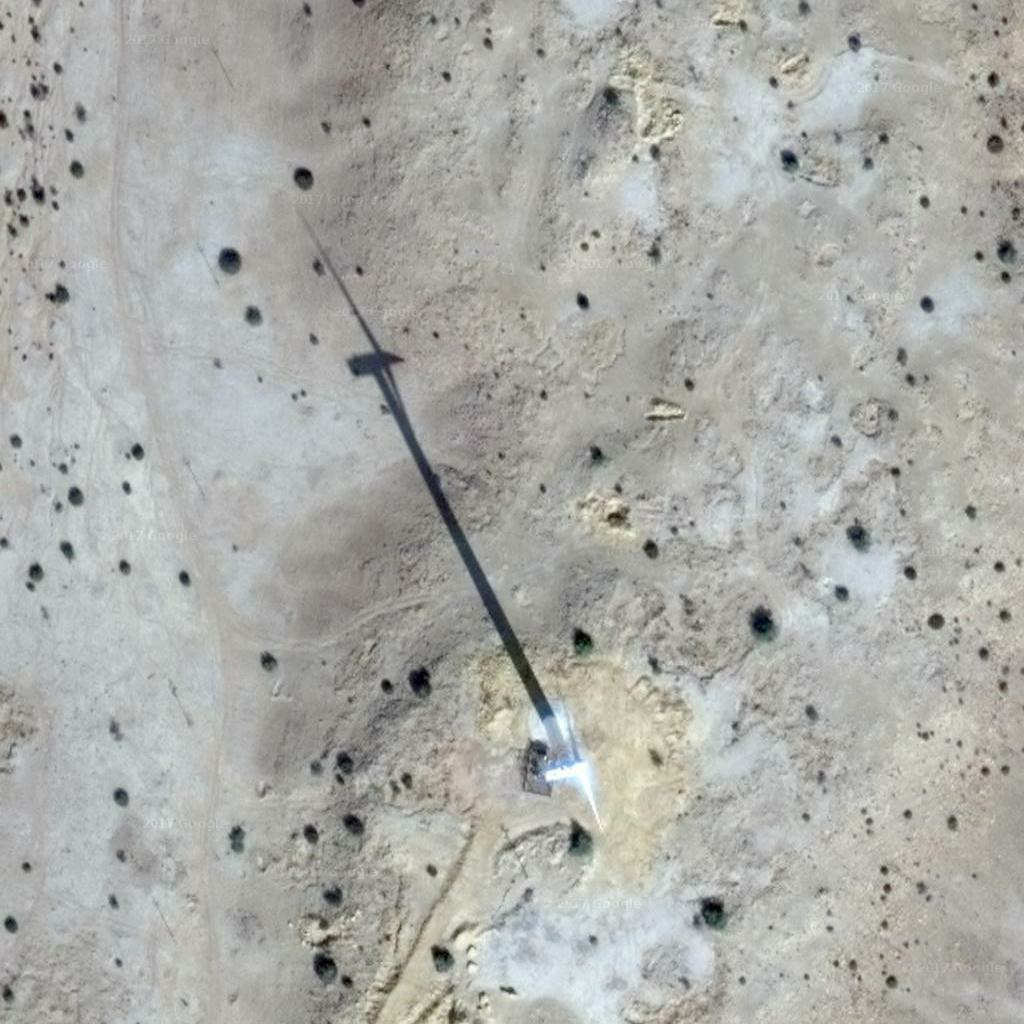Windmill: (289, 234, 563, 702)
